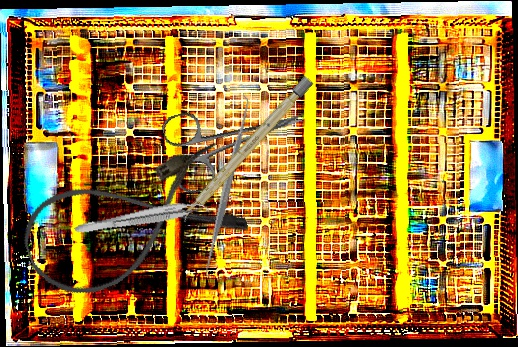Cannula: (12, 137, 252, 310)
Iris Scissors: (159, 81, 316, 197)
Scalpel Handle: (177, 75, 315, 225)
Spatula Surgical: (194, 93, 260, 279)
Tissue Forceps: (73, 195, 212, 243)
